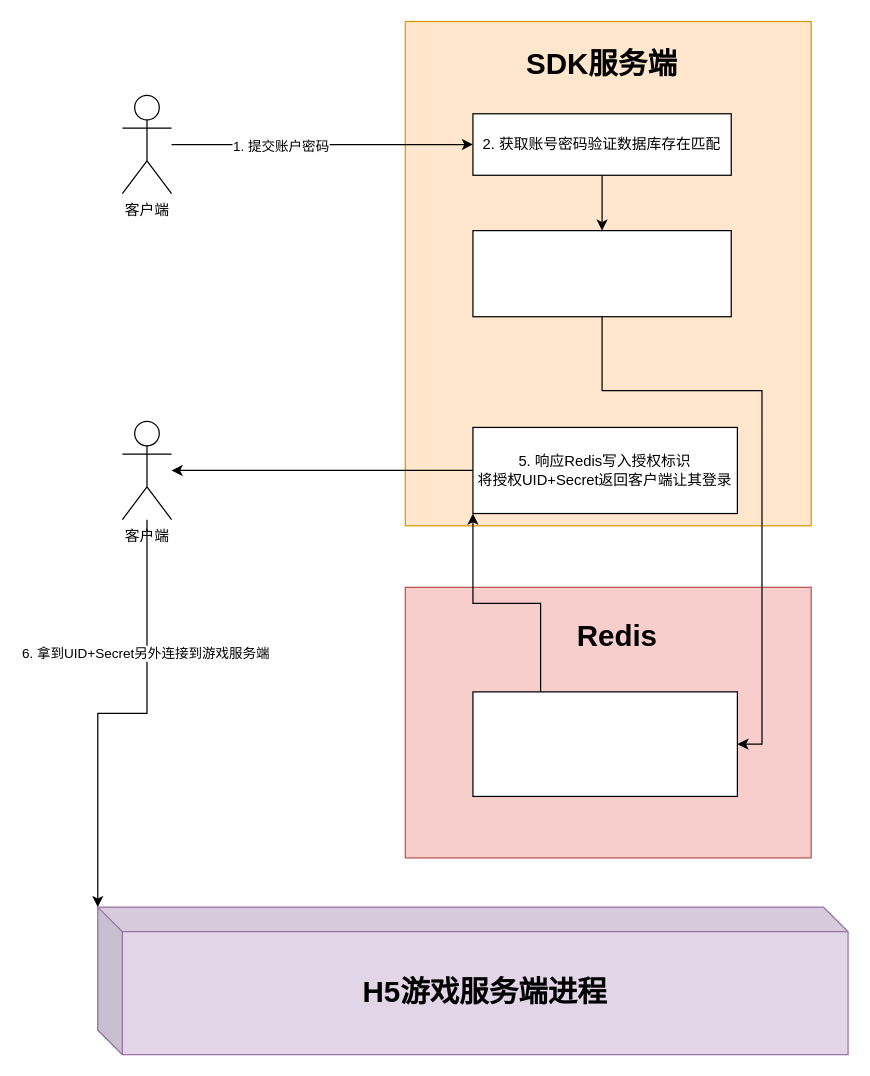
This 870x1076 diagram has some shape labels left out. The centre of each missing label's shape, as x and y in pixels:
3. 验证账号密码匹配完成 生成UID+Secret对应授权码: [601,273]
4. 写入登录凭证 将登录玩家Secret写入Redis对应Key中 比如将玩家UID=1授权码写入 "player:1": [604,743]
